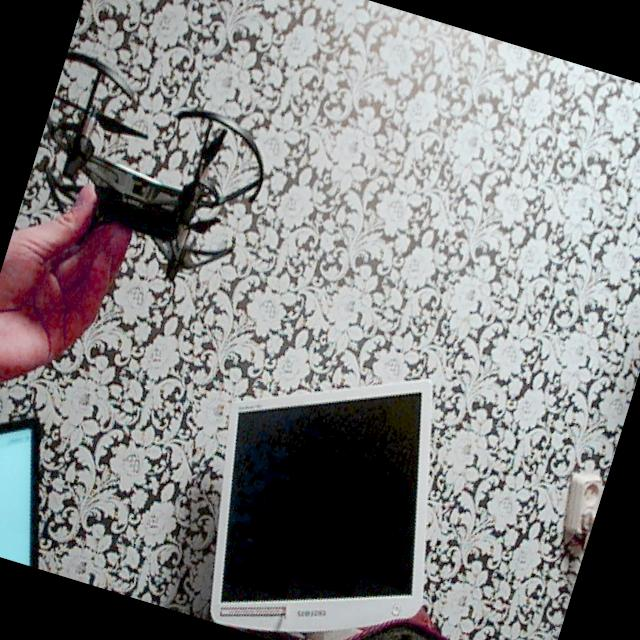drone: (0, 13, 294, 337)
